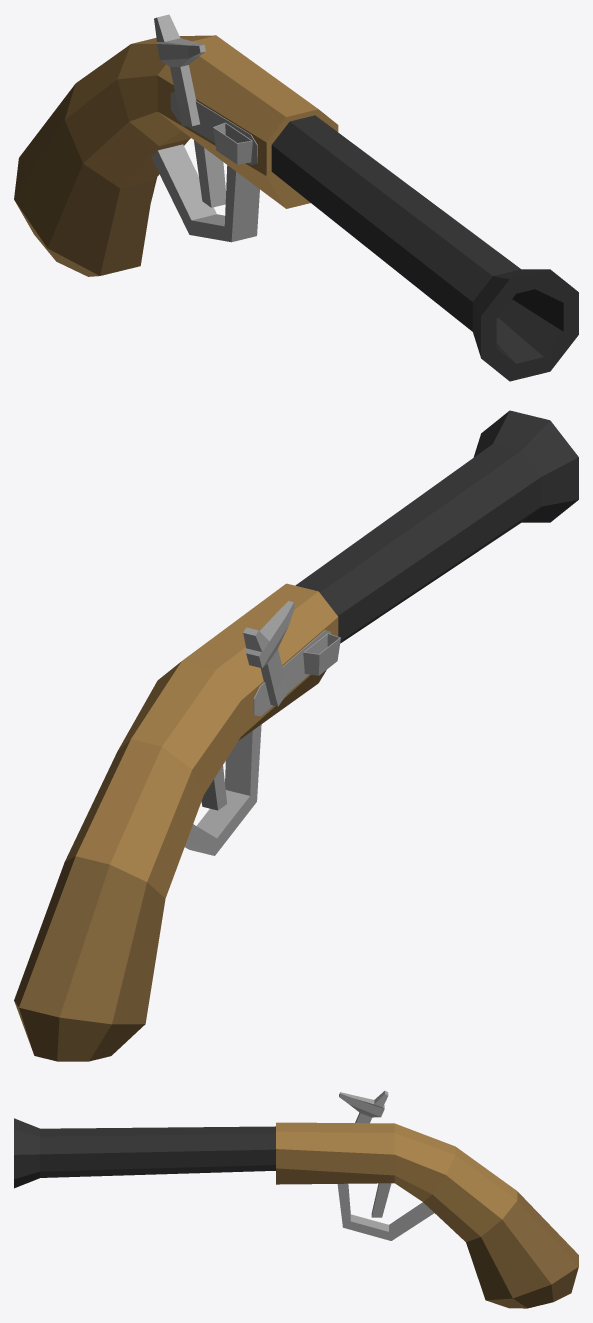
The model's file is Pistol.fbx.
The picture shows the model from 3 angles, top to bottom: view 1: azimuth 30°, elevation 25°; view 2: azimuth 150°, elevation 25°; view 3: azimuth 270°, elevation 25°; orthographic projection. The views are drawn at different scales.
Parts seen in each view (by area): view 1: Pistol, Pistol-pip; view 2: Pistol, Pistol-pip; view 3: Pistol, Pistol-pip.
Part boxes in pixels (x1,y1,x2,y2): Pistol: (14,35,578,381); Pistol-pip: (154,14,205,126); Pistol: (14,410,578,1061); Pistol-pip: (243,601,294,706); Pistol: (14,1118,578,1308); Pistol-pip: (339,1090,388,1123).
Size of the model in its own units: 5.49 by 17.85 by 45.6.
